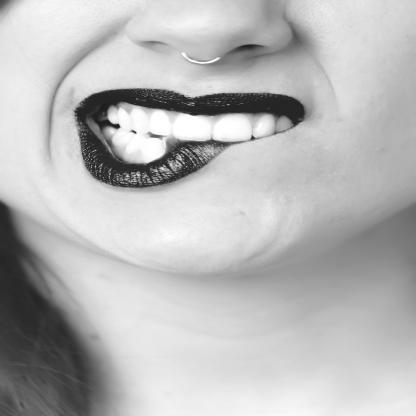Mouth: (72, 87, 308, 190)
Nose: (126, 0, 305, 66)
